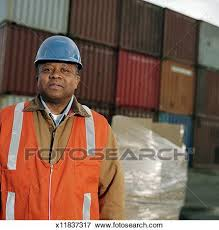Person_wearing_helmet: (32, 34, 86, 76)
